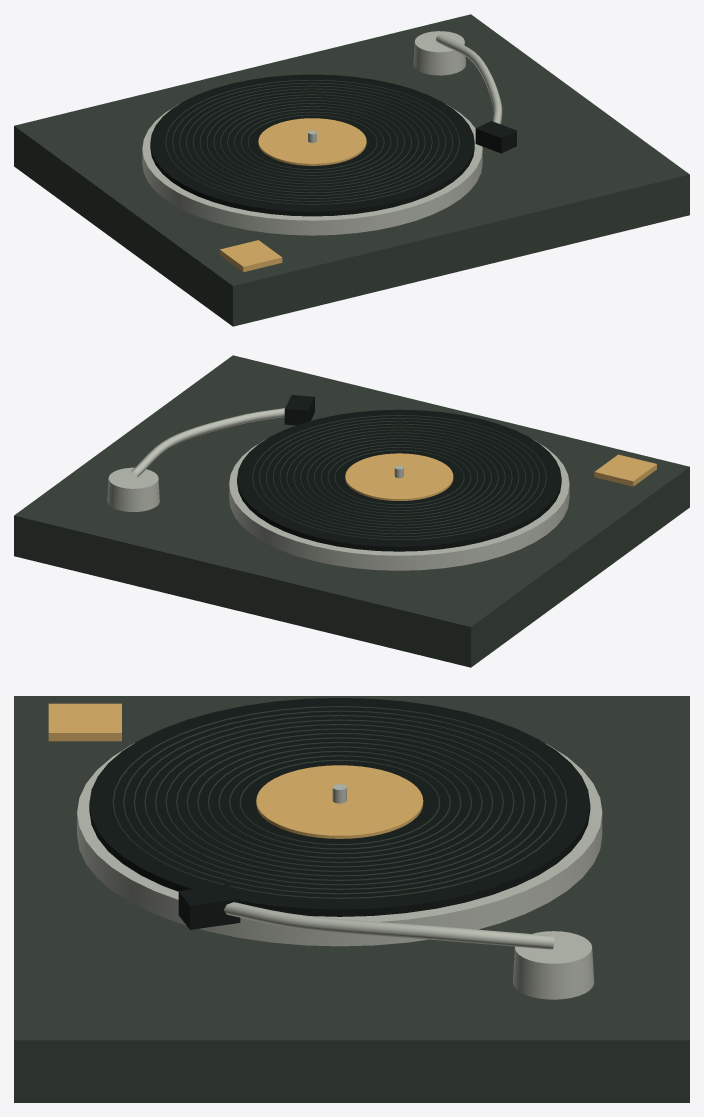
Rendered from night-dial.glb.
3 renders of one model, top to bottom at view 1: azimuth 30°, elevation 25°; view 2: azimuth 150°, elevation 25°; view 3: azimuth 270°, elevation 25°, orthographic. The views are drawn at different scales.
Parts seen in each view (by area): view 1: night-dial; view 2: night-dial; view 3: night-dial.
Boxes of the visible parts, x1,y1,x2,y2 form: night-dial: (14, 14, 689, 326); night-dial: (14, 355, 689, 667); night-dial: (14, 696, 689, 1102).
Bounding box in the file's own units: 4 × 0.6444 × 3.32.
